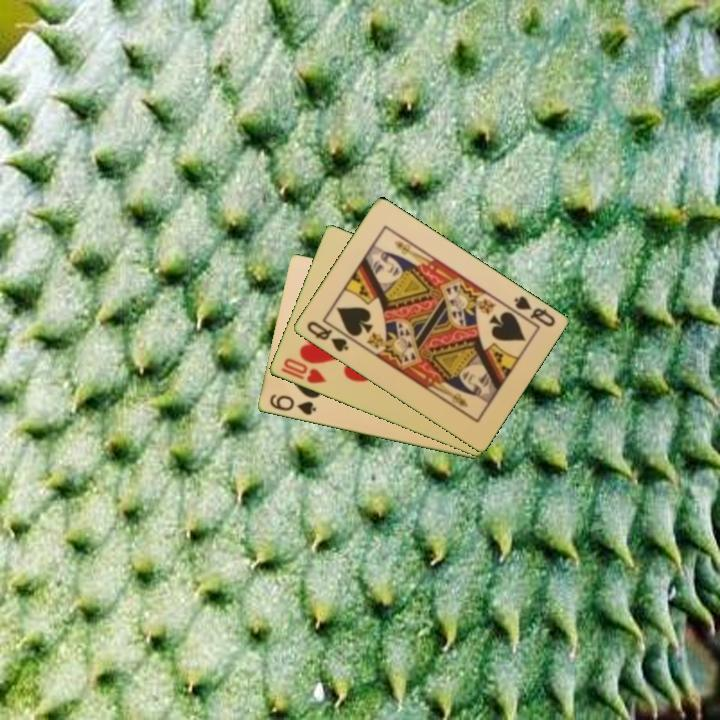10h: (277, 355, 329, 387)
6s: (266, 391, 319, 418)
Qs: (505, 292, 558, 330), (303, 317, 351, 355)
